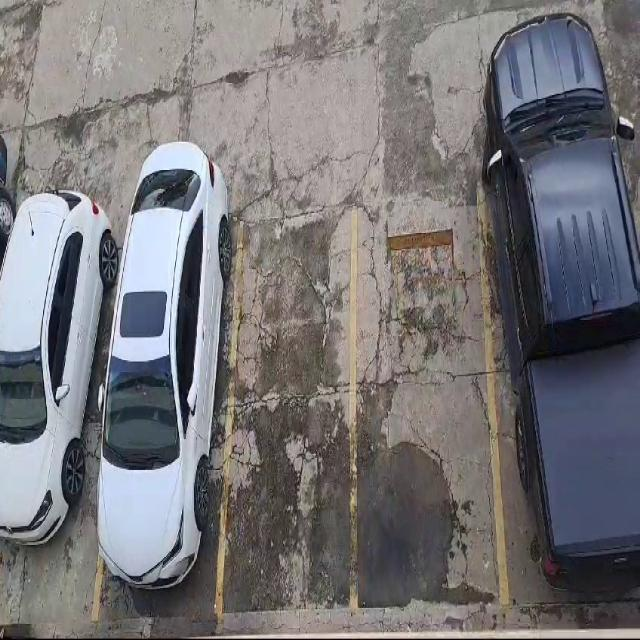empty: (354, 187, 506, 607), (217, 210, 353, 608)
notEmpty: (485, 159, 639, 601), (91, 221, 242, 615), (0, 221, 131, 619)
